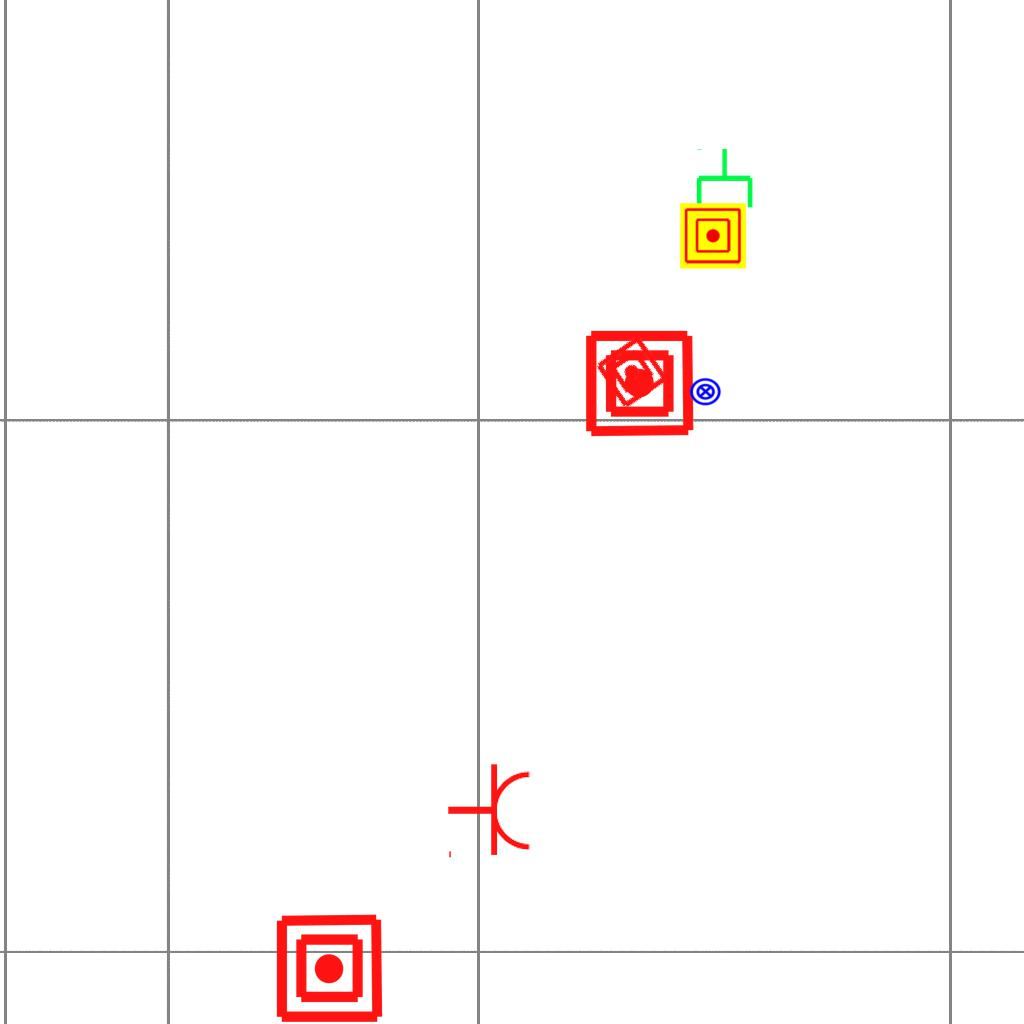Datenanschluss_einfach: (692, 146, 761, 246)
NAM-Nichtautomatischer_Melder: (583, 327, 696, 440), (273, 912, 386, 1024), (593, 333, 671, 411), (680, 203, 746, 269)
Schukosteckdose_einfach: (446, 762, 533, 862)
Taster_beleuchtet: (689, 375, 722, 408)
